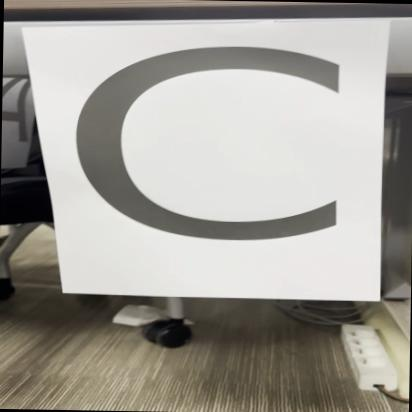seat: (13, 22, 412, 303)
